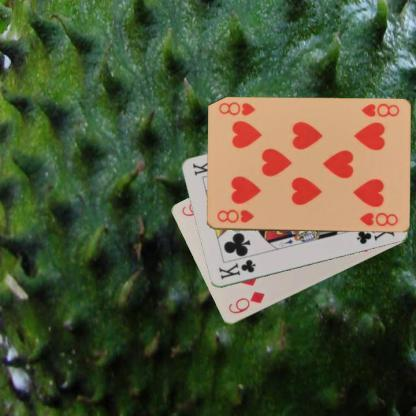6d: (225, 288, 266, 316)
8h: (358, 100, 400, 118), (214, 207, 255, 225)
Kc: (216, 257, 257, 281)
